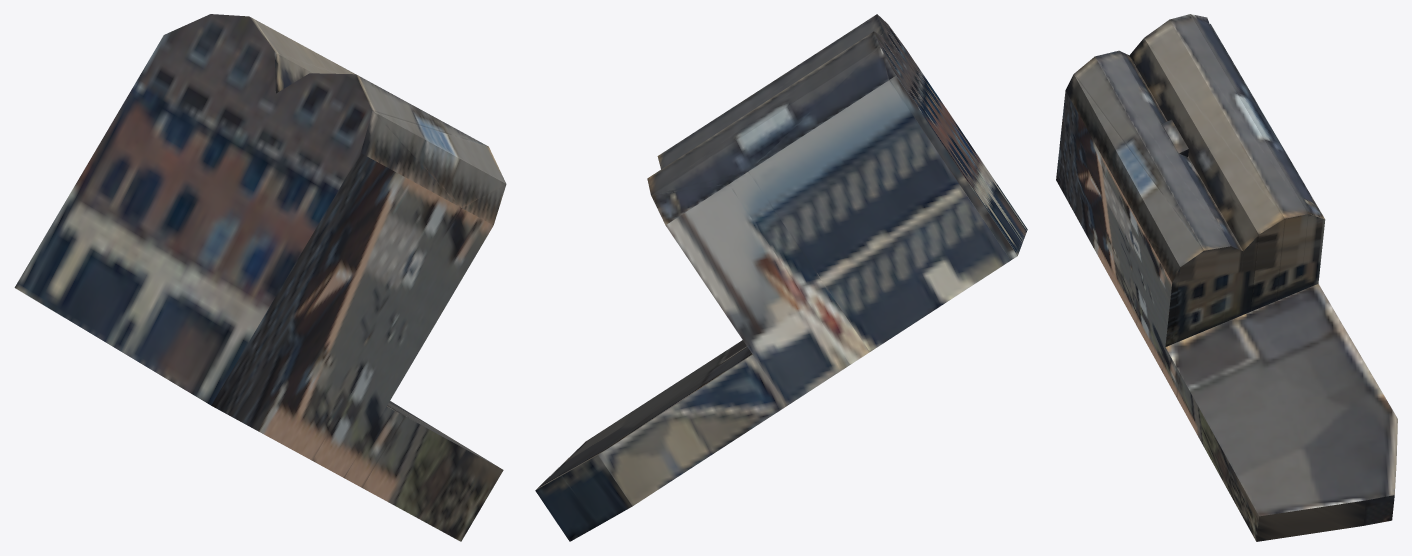
3 views of the same model, side by side, from view 1: azimuth 30°, elevation 25°; view 2: azimuth 150°, elevation 25°; view 3: azimuth 270°, elevation 25° (orthographic). The views are drawn at different scales.
Parts seen in each view (by area): view 1: BAG_0599100000656917 (×7); view 2: BAG_0599100000656917 (×6); view 3: BAG_0599100000656917 (×9).
Part boxes in pixels (x1,y1,x2,y2): BAG_0599100000656917 (×7): (14,14,506,541); BAG_0599100000656917 (×6): (535,14,1027,541); BAG_0599100000656917 (×9): (1056,14,1397,541).
Bounding box in the file's own units: 23.74 × 27.16 × 19.5.
10 materials, 9 textured.
